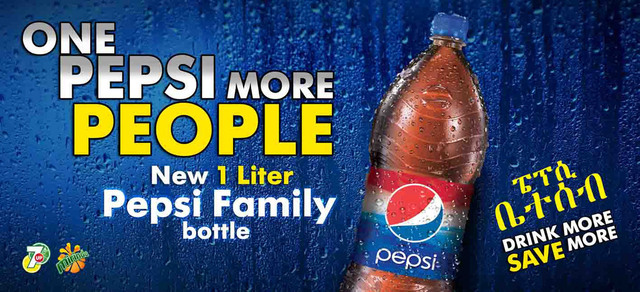pepsi: (383, 181, 444, 242), (386, 180, 445, 242), (386, 181, 445, 242), (386, 181, 444, 242)
